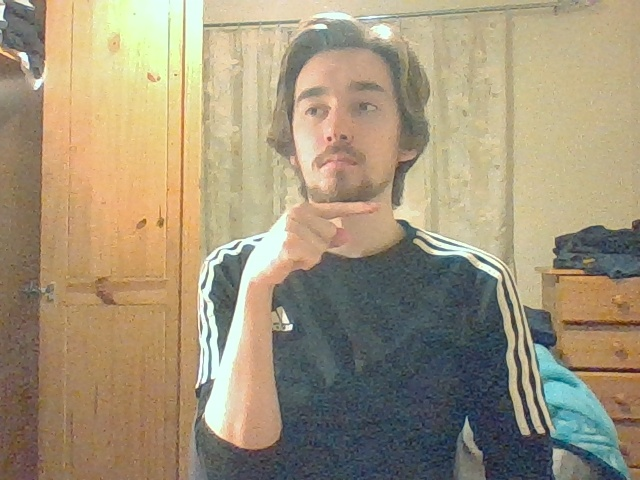son: (276, 201, 380, 270)
